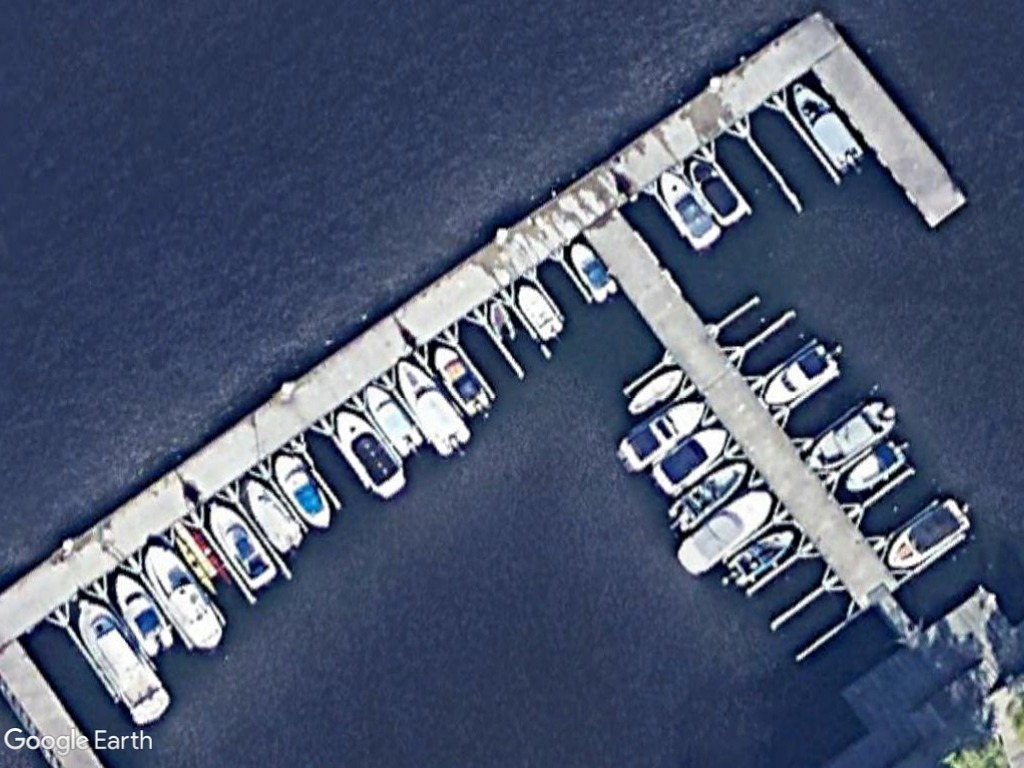boat: (70, 591, 176, 732), (140, 540, 232, 659), (674, 482, 775, 580), (390, 356, 477, 459), (200, 494, 283, 600), (798, 392, 897, 477), (784, 78, 866, 179), (883, 492, 975, 578), (615, 394, 709, 475), (332, 408, 410, 502), (661, 457, 751, 533), (757, 336, 844, 411), (108, 563, 174, 659), (649, 422, 734, 494), (653, 169, 722, 255), (238, 472, 306, 557), (272, 447, 339, 531), (721, 520, 800, 591), (358, 379, 424, 462), (686, 150, 750, 233), (430, 339, 493, 422), (620, 355, 691, 422), (838, 432, 909, 497), (567, 234, 622, 309), (514, 275, 567, 348)
